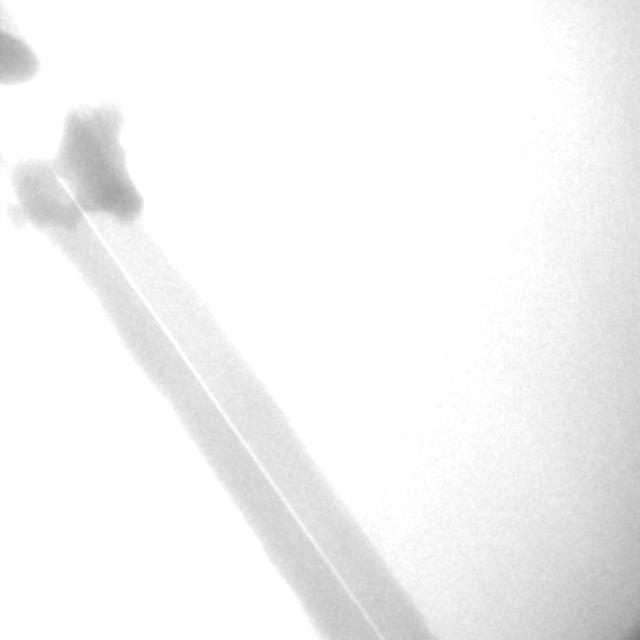broken arc: (4, 82, 383, 638)
